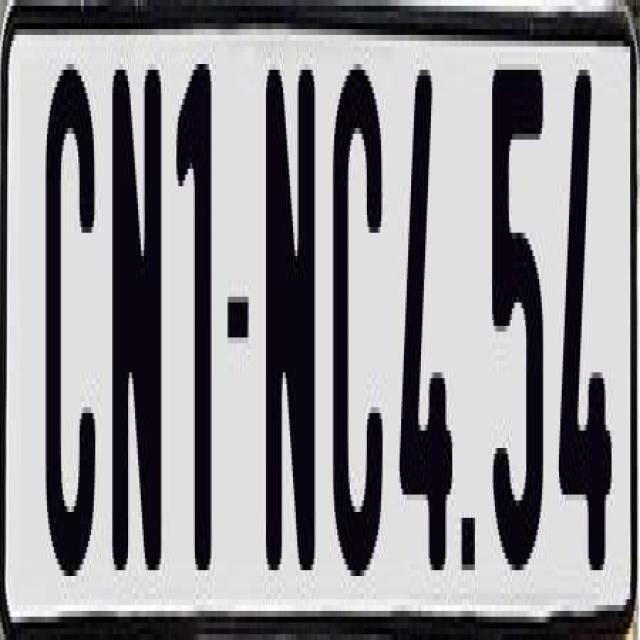1: (173, 52, 210, 594)
4: (554, 52, 610, 576), (399, 52, 456, 553)
5: (488, 58, 544, 570)
C: (328, 47, 387, 564), (46, 64, 102, 576)
N: (263, 58, 316, 576), (112, 70, 160, 576)
